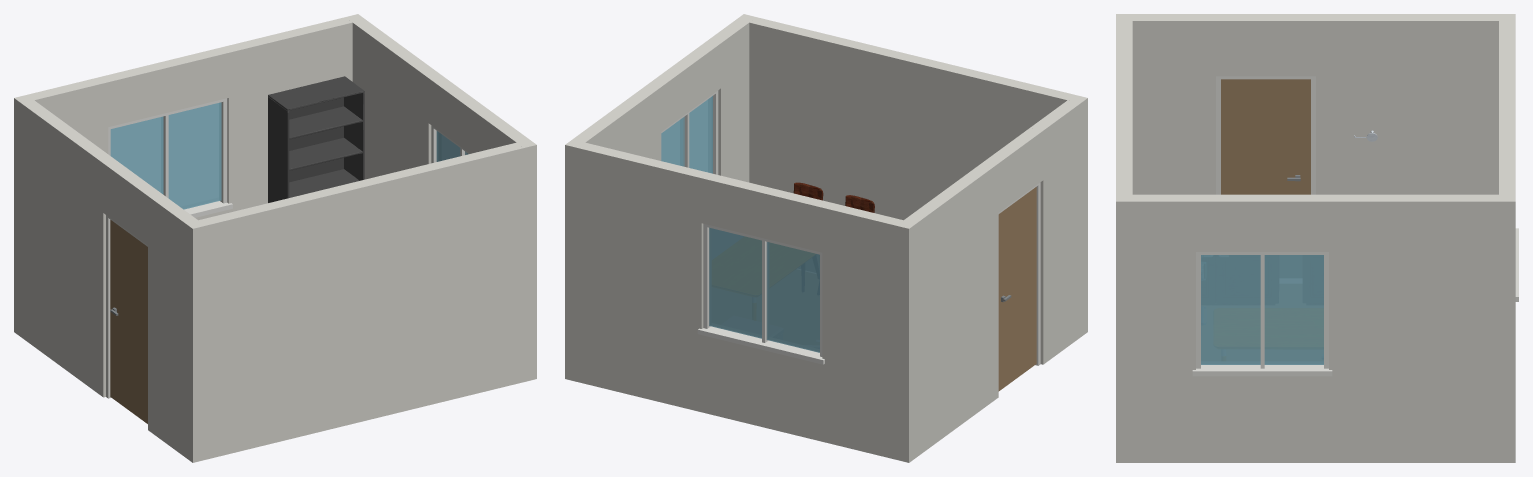
File: holodeck.glb
3 views of the same model, side by side, from view 1: azimuth 30°, elevation 25°; view 2: azimuth 150°, elevation 25°; view 3: azimuth 270°, elevation 25° (orthographic). The views are drawn at different scales.
Parts seen in each view (by area): view 1: wall|scenesmith_057__R00|0, wall|scenesmith_057__R00|2, wall|scenesmith_057__R00|1, wall|scenesmith_057__R00|3, scenesmith_057__R00_5, wall|scenesmith_057__R00|1 Window 0 | glazing, wall|scenesmith_057__R00|2 Door 0 | wood leaf, wall|scenesmith_057__R00|1 Window 0 | jamb, wall|scenesmith_057__R00|2 Door 0 | jamb; view 2: wall|scenesmith_057__R00|1, wall|scenesmith_057__R00|0, wall|scenesmith_057__R00|2, wall|scenesmith_057__R00|3, wall|scenesmith_057__R00|1 Window 0 | glazing, wall|scenesmith_057__R00|2 Door 0 | wood leaf, wall|scenesmith_057__R00|1 Window 0 | jamb, wall|scenesmith_057__R00|3 Window 0 | glazing, wall|scenesmith_057__R00|2 Door 0 | jamb, wall|scenesmith_057__R00|3 Window 0 | jamb, scenesmith_057__R00_7; view 3: wall|scenesmith_057__R00|3, wall|scenesmith_057__R00|2, wall|scenesmith_057__R00|3 Window 0 | glazing, wall|scenesmith_057__R00|2 Door 0 | wood leaf, wall|scenesmith_057__R00|0, wall|scenesmith_057__R00|1, wall|scenesmith_057__R00|3 Window 0 | jamb, wall|scenesmith_057__R00|2 Door 0 | jamb.
Boxes of the visible parts, x1,y1,x2,y2 form: wall|scenesmith_057__R00|0: (185, 142, 536, 462); wall|scenesmith_057__R00|2: (14, 98, 205, 462); wall|scenesmith_057__R00|1: (14, 17, 352, 220); wall|scenesmith_057__R00|3: (345, 14, 536, 379); scenesmith_057__R00_5: (268, 76, 364, 202); wall|scenesmith_057__R00|1 Window 0 | glazing: (110, 102, 221, 209); wall|scenesmith_057__R00|2 Door 0 | wood leaf: (110, 220, 147, 423); wall|scenesmith_057__R00|1 Window 0 | jamb: (108, 98, 232, 217); wall|scenesmith_057__R00|2 Door 0 | jamb: (106, 215, 147, 398); wall|scenesmith_057__R00|1: (578, 142, 916, 459); wall|scenesmith_057__R00|0: (749, 17, 1087, 220); wall|scenesmith_057__R00|2: (896, 98, 1087, 462); wall|scenesmith_057__R00|3: (565, 14, 756, 381); wall|scenesmith_057__R00|1 Window 0 | glazing: (709, 227, 819, 352); wall|scenesmith_057__R00|2 Door 0 | wood leaf: (998, 187, 1036, 391); wall|scenesmith_057__R00|1 Window 0 | jamb: (697, 223, 824, 364); wall|scenesmith_057__R00|3 Window 0 | glazing: (661, 96, 712, 173); wall|scenesmith_057__R00|2 Door 0 | jamb: (998, 182, 1040, 365); wall|scenesmith_057__R00|3 Window 0 | jamb: (661, 90, 718, 174); scenesmith_057__R00_7: (793, 182, 874, 212); wall|scenesmith_057__R00|3: (1116, 194, 1515, 462); wall|scenesmith_057__R00|2: (1132, 14, 1498, 194); wall|scenesmith_057__R00|3 Window 0 | glazing: (1201, 255, 1323, 364); wall|scenesmith_057__R00|2 Door 0 | wood leaf: (1221, 79, 1310, 194); wall|scenesmith_057__R00|0: (1116, 14, 1132, 462); wall|scenesmith_057__R00|1: (1499, 14, 1515, 462); wall|scenesmith_057__R00|3 Window 0 | jamb: (1192, 252, 1332, 376); wall|scenesmith_057__R00|2 Door 0 | jamb: (1216, 76, 1315, 194).
Size of the model in its own units: 4.03 by 2.61 by 3.63.
15 materials, 9 textured.
